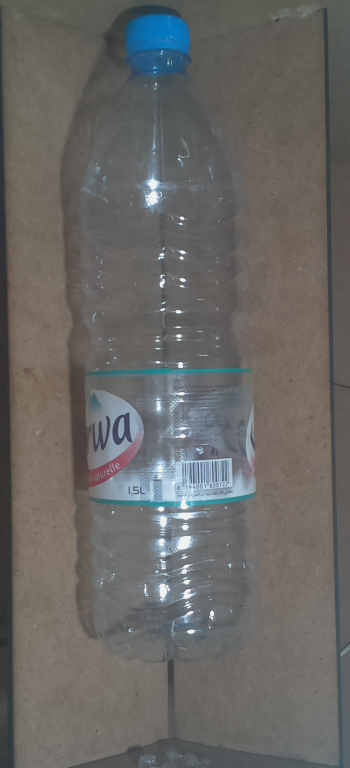Bouteille_1.5L: (64, 11, 274, 668)
